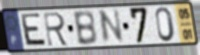0: (154, 6, 177, 43)
7: (128, 6, 149, 45)
B: (71, 9, 99, 47)
E: (20, 11, 48, 48)
N: (97, 7, 125, 46)
R: (42, 11, 71, 48)
